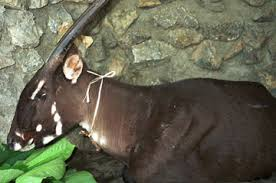sao_la: (6, 1, 158, 166)
